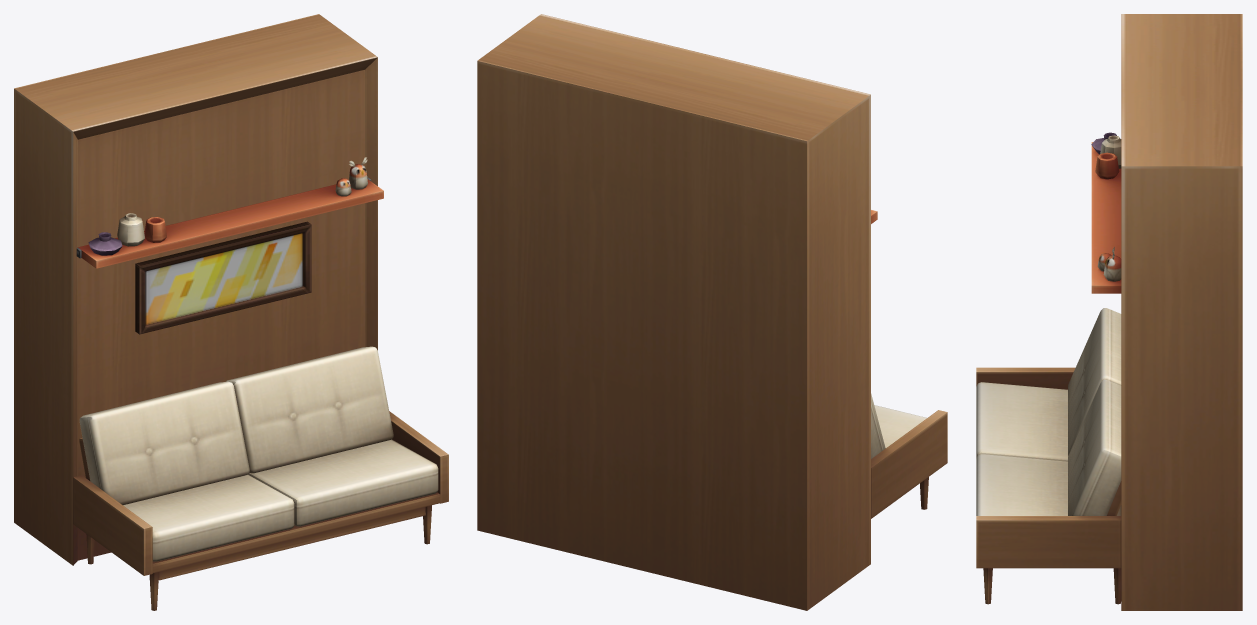
File: 墨菲爱座.glb
3 renders of one model, left to right at view 1: azimuth 30°, elevation 25°; view 2: azimuth 150°, elevation 25°; view 3: azimuth 270°, elevation 25°, orthographic. The views are drawn at different scales.
Parts seen in each view (by area): view 1: s4studio_mesh_1_3, TinyLiving_MurphyLoveSeat_4; view 2: TinyLiving_MurphyLoveSeat_4, s4studio_mesh_1_3; view 3: TinyLiving_MurphyLoveSeat_4, s4studio_mesh_1_3.
Boxes of the visible parts, bbox=[...] form: s4studio_mesh_1_3: bbox=[73, 70, 448, 610]; TinyLiving_MurphyLoveSeat_4: bbox=[14, 14, 377, 565]; TinyLiving_MurphyLoveSeat_4: bbox=[477, 14, 870, 610]; s4studio_mesh_1_3: bbox=[871, 210, 947, 518]; TinyLiving_MurphyLoveSeat_4: bbox=[1121, 14, 1242, 610]; s4studio_mesh_1_3: bbox=[976, 132, 1121, 604].
Size of the model in its own units: 1.76 by 2.4 by 1.3.
1 material, 1 textured.
